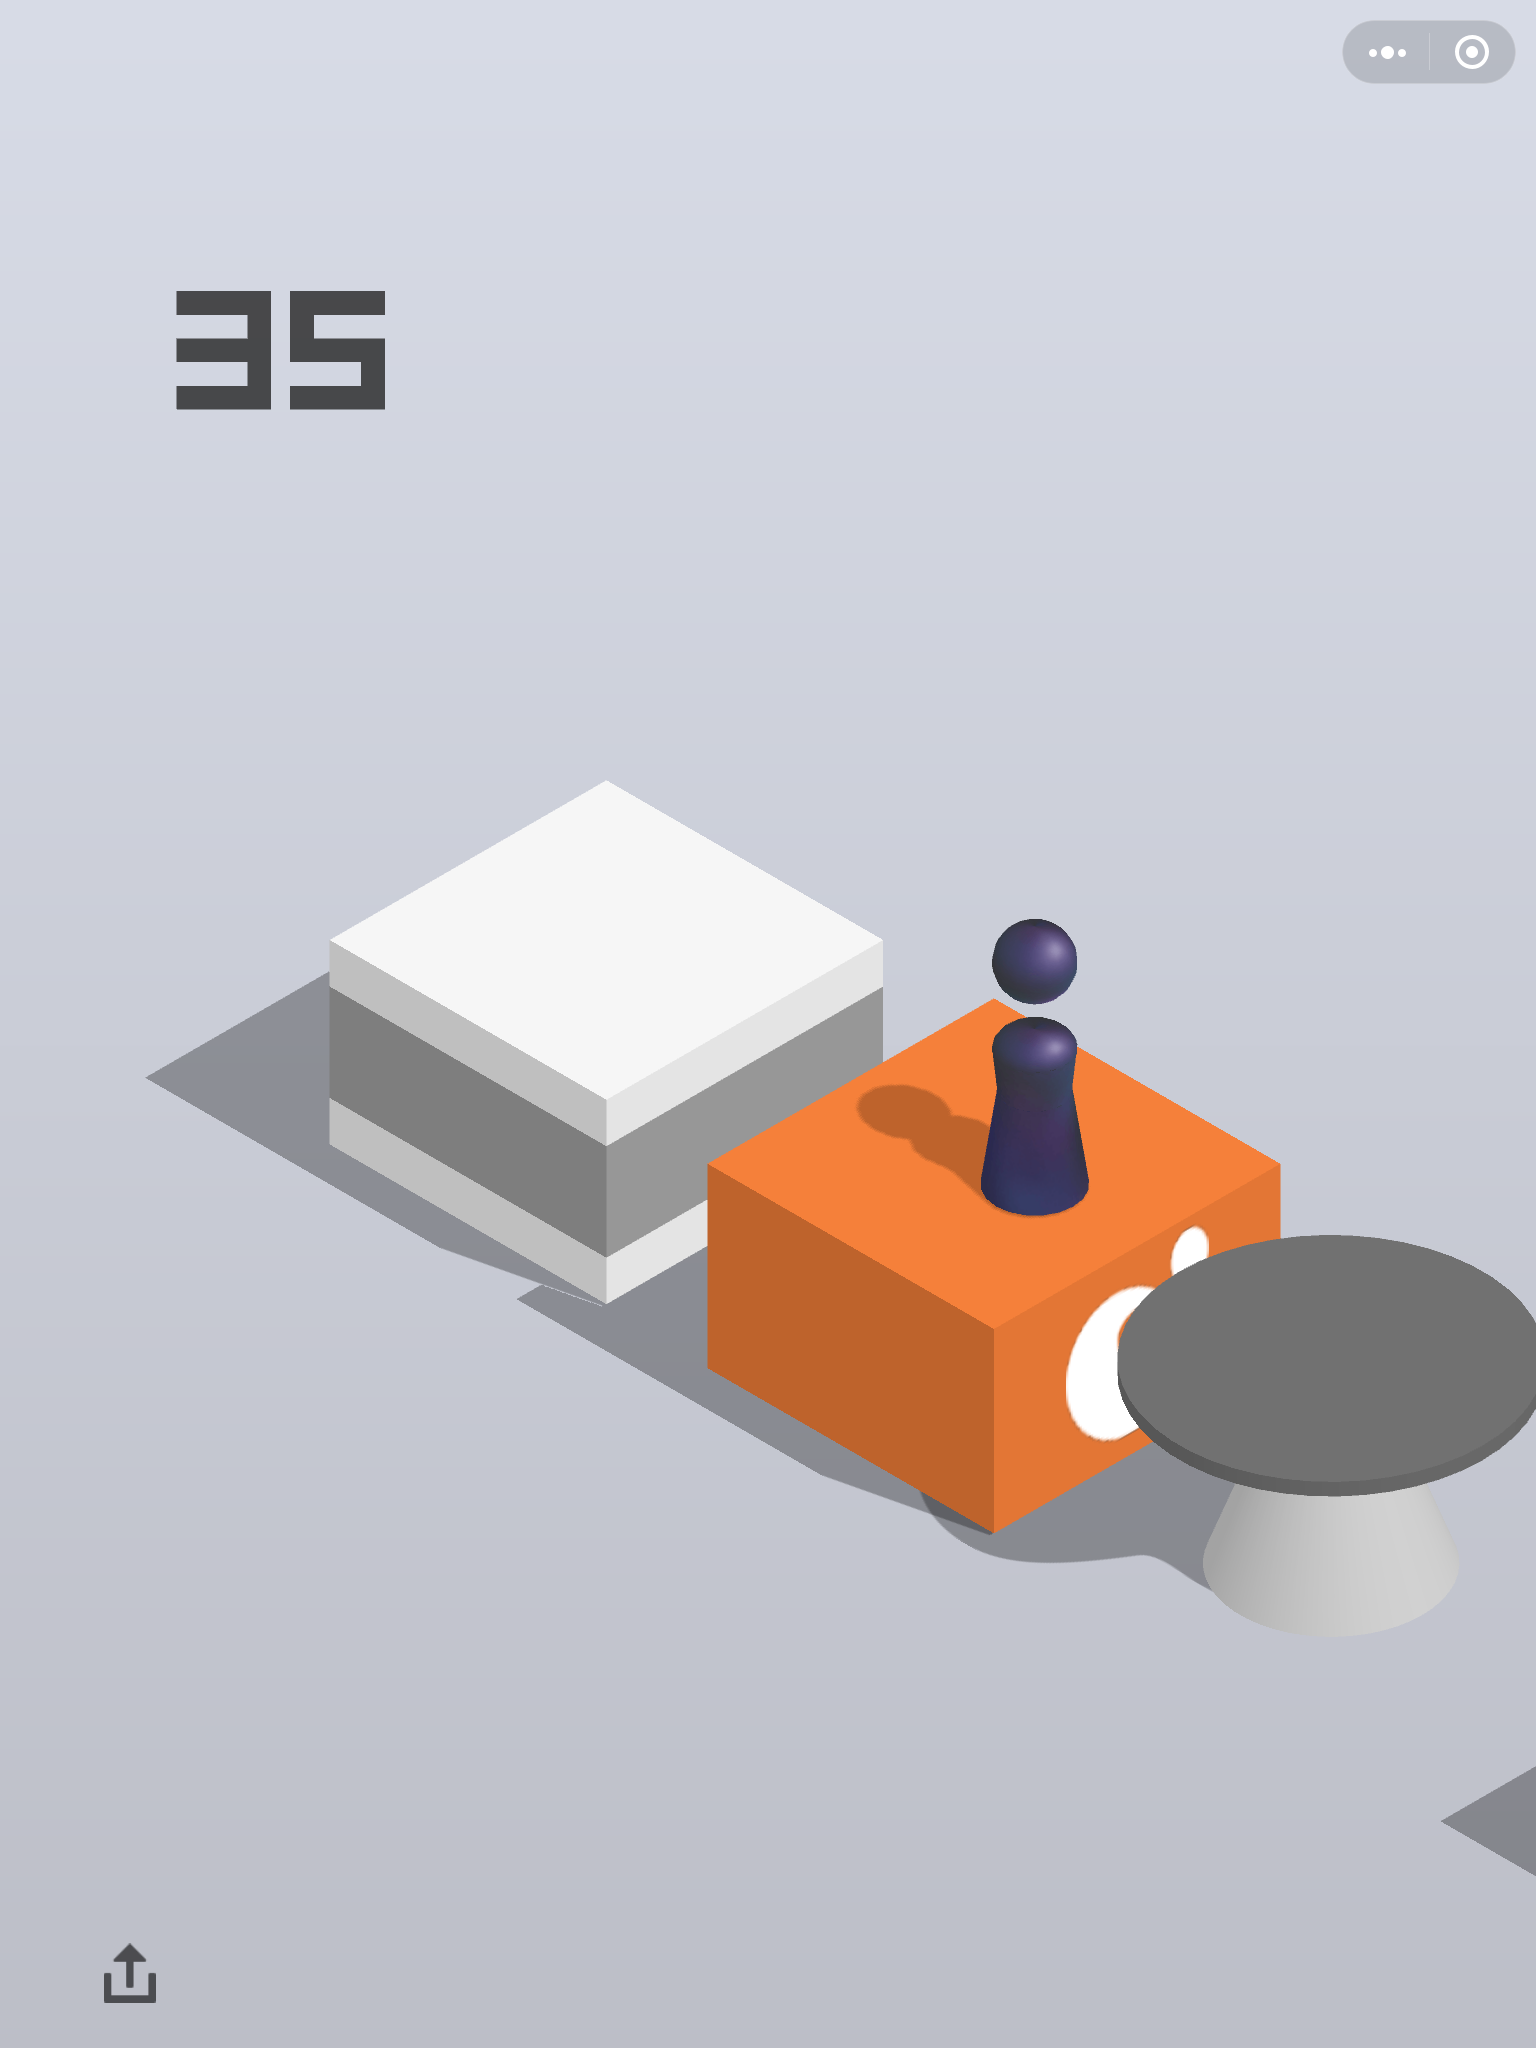c: (1112, 1229, 1536, 1643)
f: (702, 995, 1288, 1540), (324, 776, 891, 1313)
r: (975, 913, 1094, 1219)
